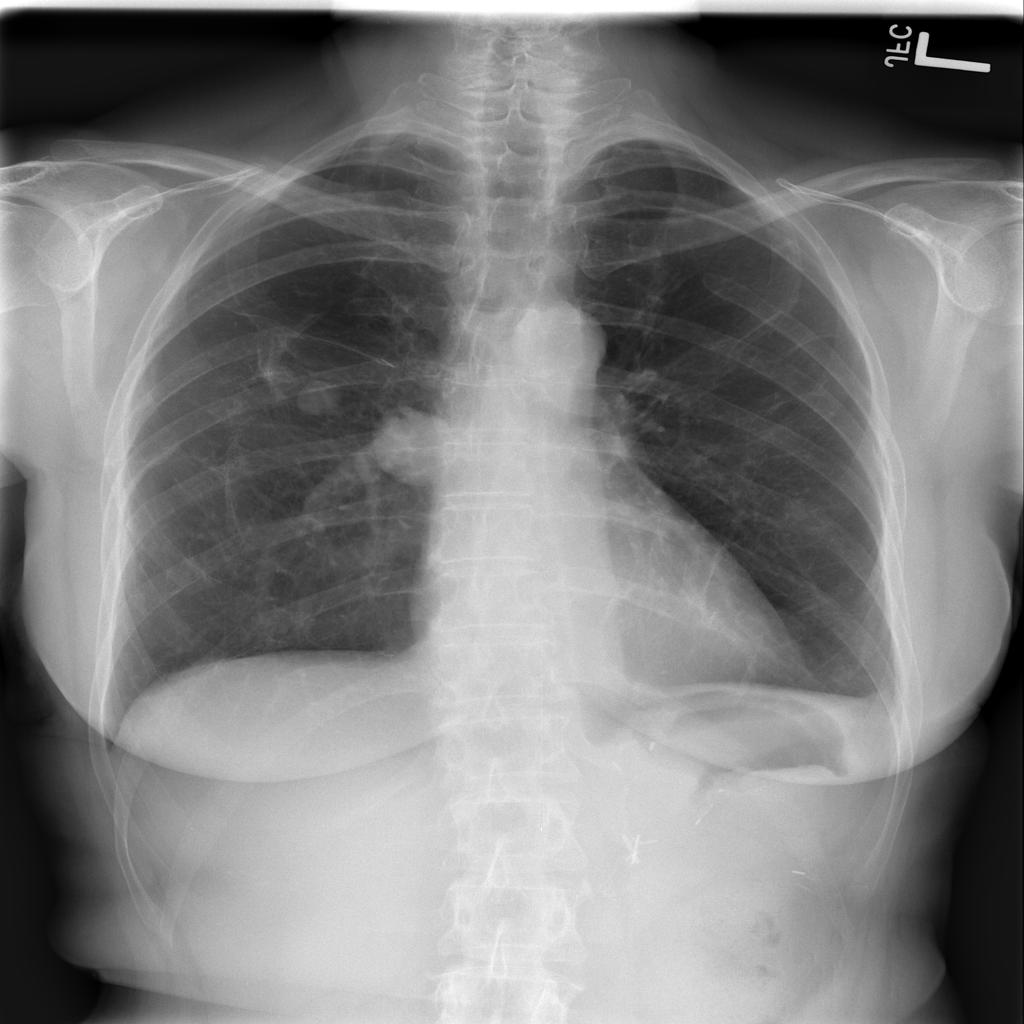nodule: (360, 393, 474, 497), (278, 364, 357, 426)
